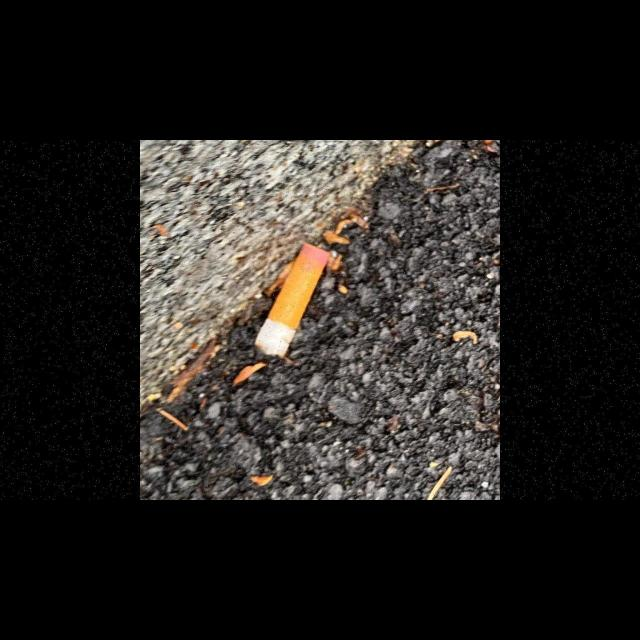cigarette: (252, 242, 330, 362)
